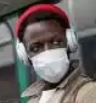with_facemask: (31, 54, 70, 78)
